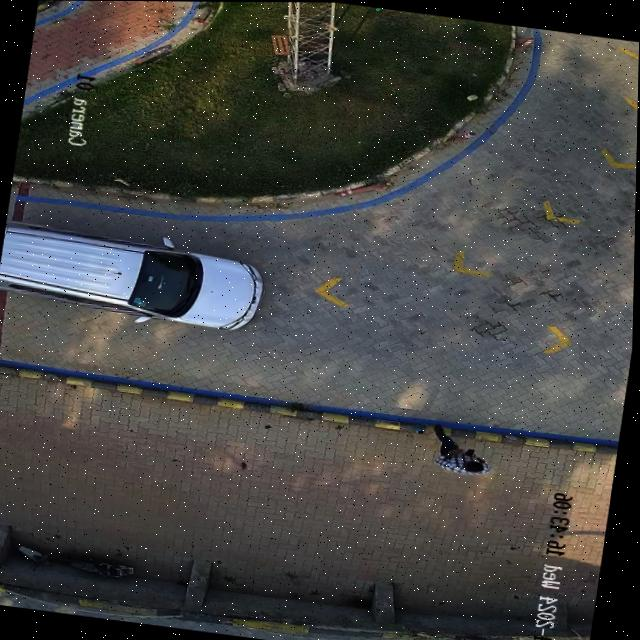car: (0, 228, 262, 330)
